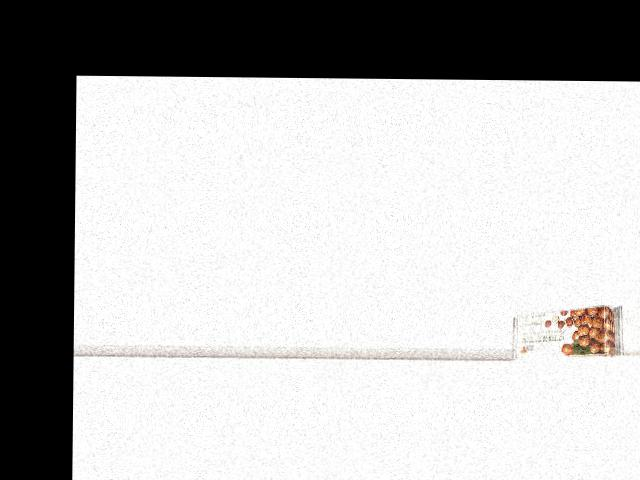chocolate: (511, 303, 622, 358)
